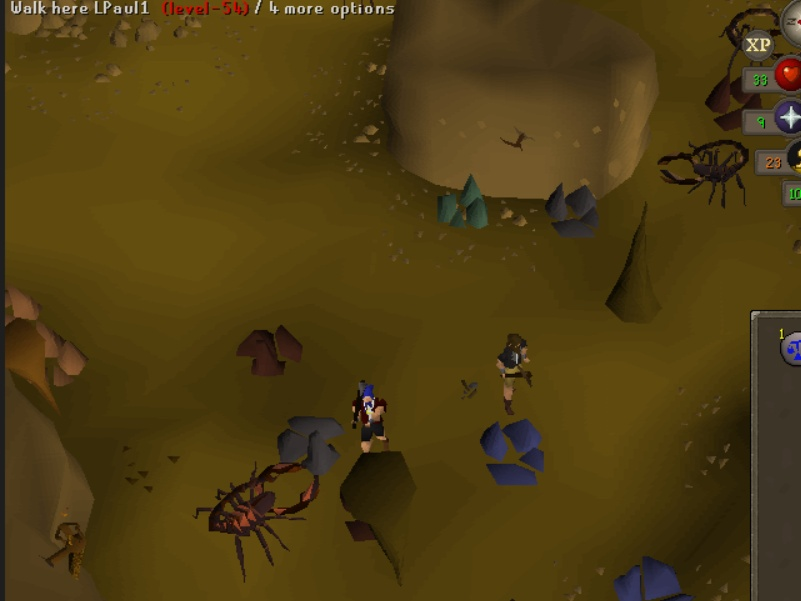adamant: (435, 169, 494, 230)
copper: (40, 323, 96, 388), (1, 280, 46, 327)
iron: (231, 318, 306, 383), (703, 72, 764, 134)
mithril: (479, 416, 557, 489), (608, 550, 689, 601)
